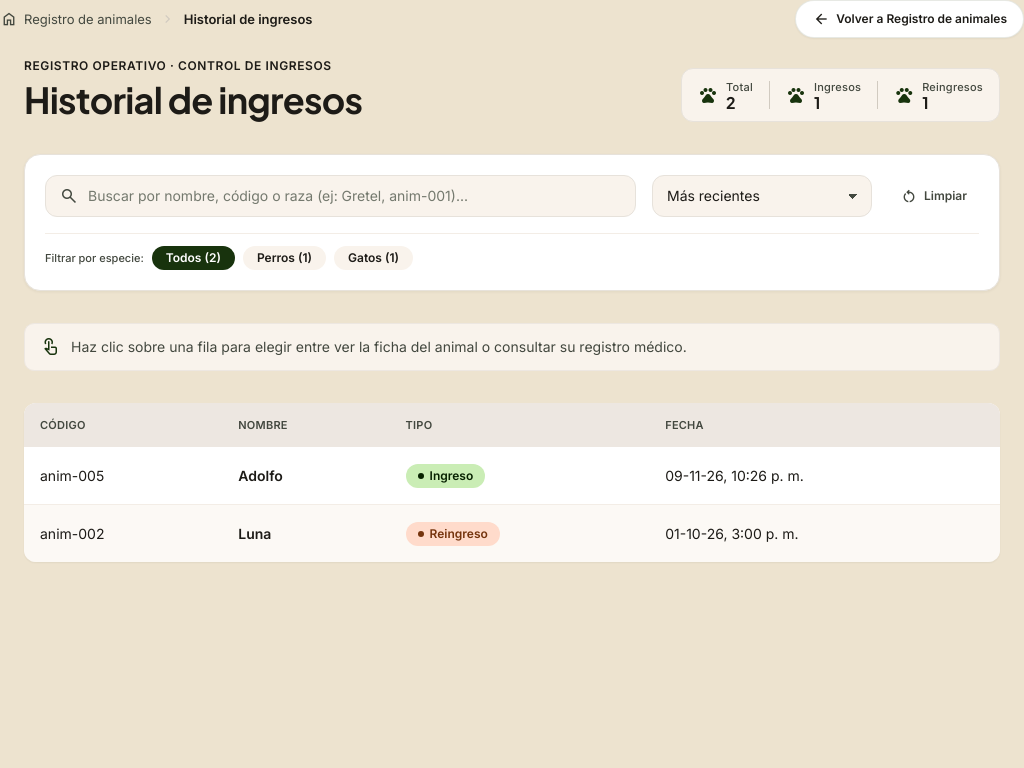
Test case: RegistroHistorialPage › busca por nombre o raza y filtra por especie
Expected: the text "Adolfo" is shown, [222,447,390,504]
Expected: the text "Luna" is shown, [222,504,390,562]
Click the button "Perros (1)".
click(284, 258)  # box [243,246,326,270]
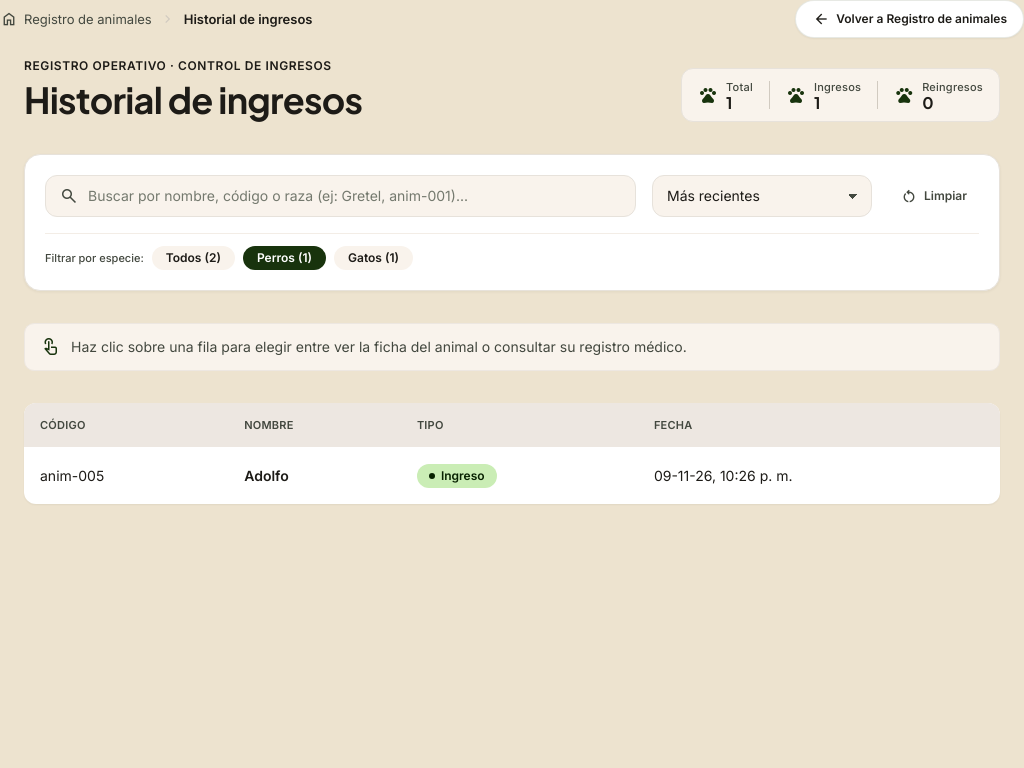
Expected: the text "Adolfo" is shown, [228,447,401,504]
Result: the text "Luna" is gone
Click the button "Todos (2)".
click(193, 258)  # box [152,246,235,270]
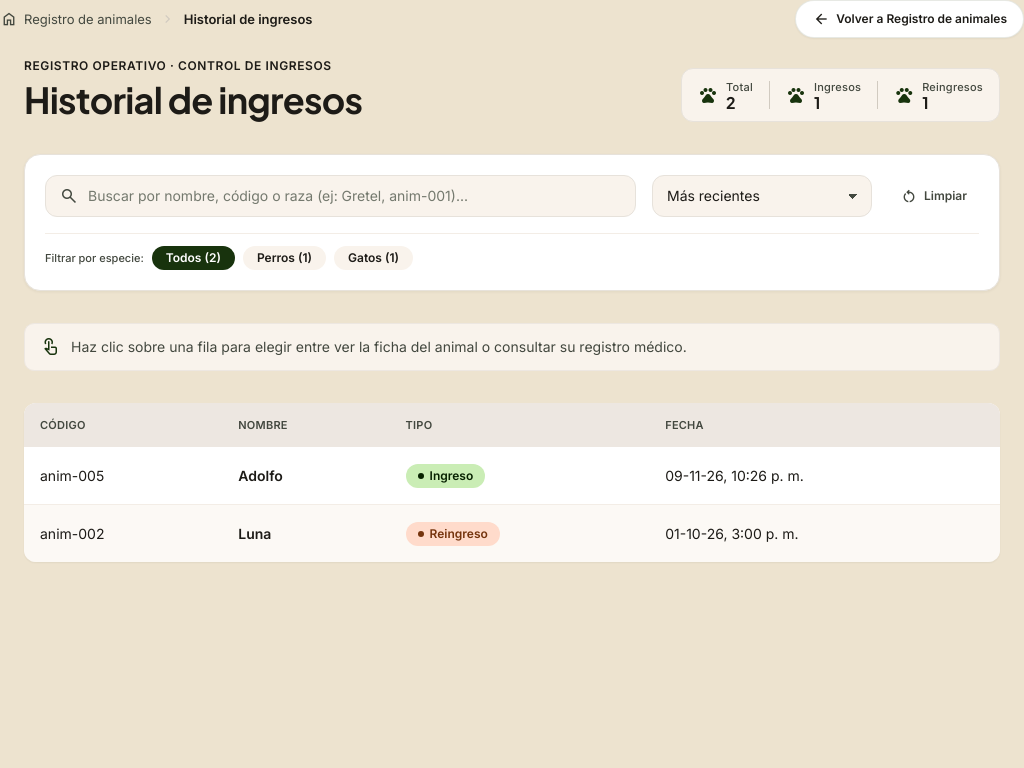
Type "mestizo" into the search field labelled "Buscar por nombre, código o raza".
click(340, 196); type("mestizo")  # box [45,175,636,217]
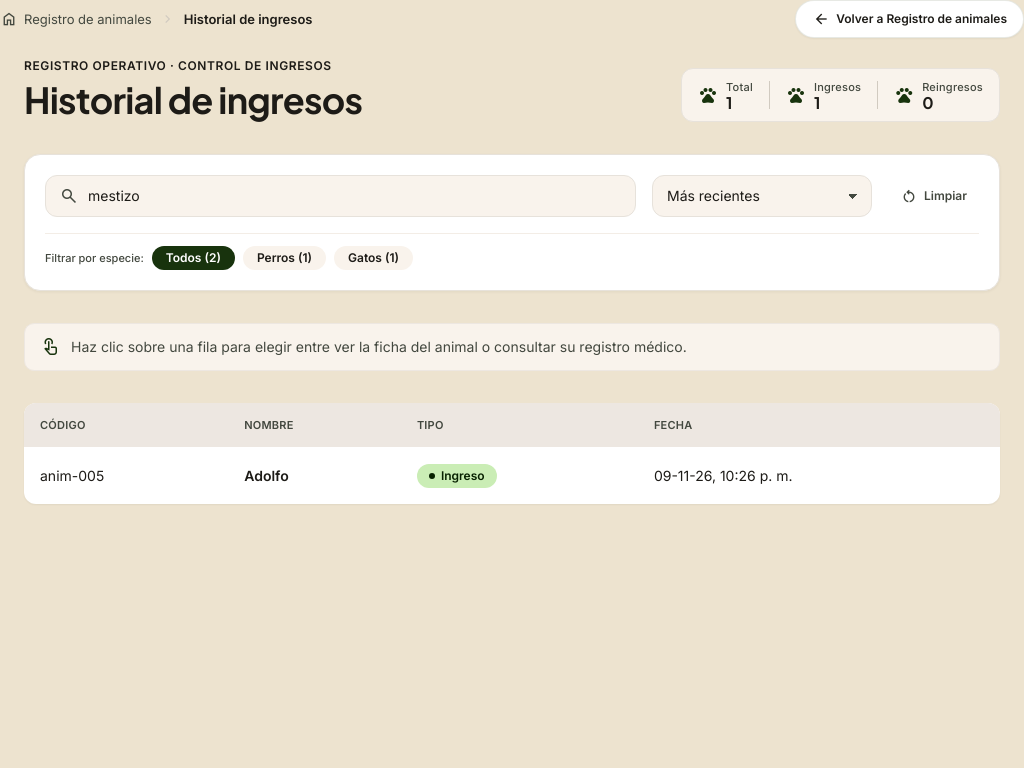
Expected: the text "Adolfo" is shown, [228,447,401,504]
Result: the text "Luna" is gone
Replace the text in the search field named "Buscar por nombre, código o raza" with "no-existe" at [340, 196], box [45,175,636,217]
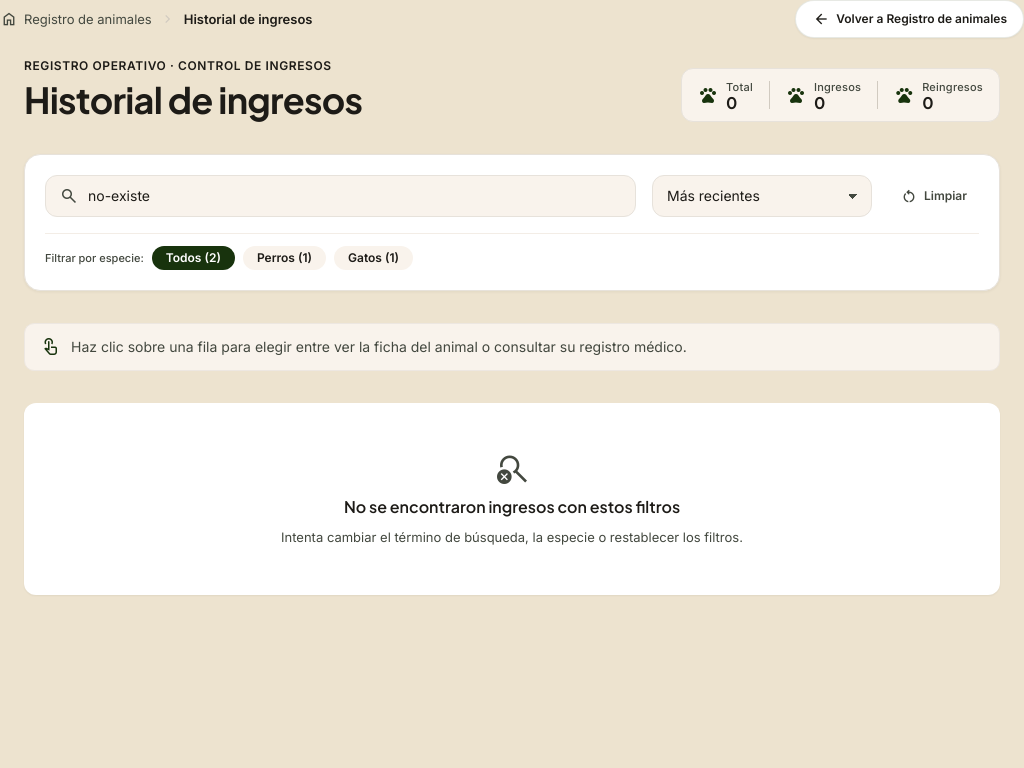
Result: the text "No se encontraron ingresos con estos filtros" is shown at [344,495,680,519]
Click the button "Limpiar".
click(934, 196)  # box [888,177,979,215]
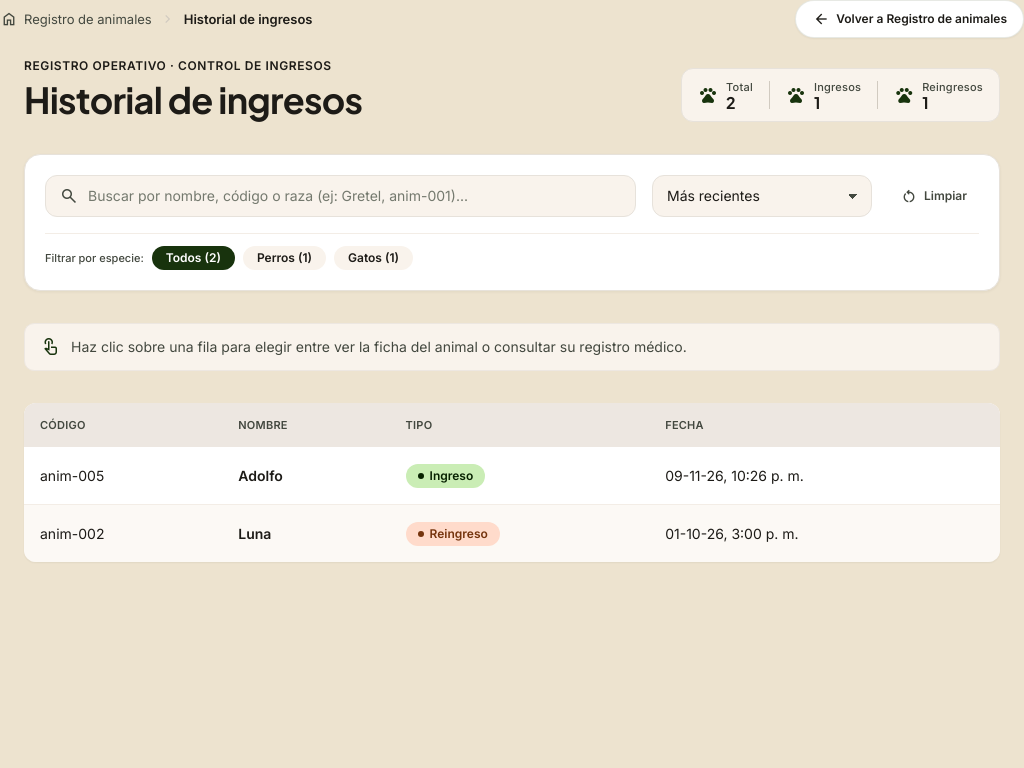
Result: the text "Adolfo" is shown at [222,447,390,504]
Result: the text "Luna" is shown at [222,504,390,562]
